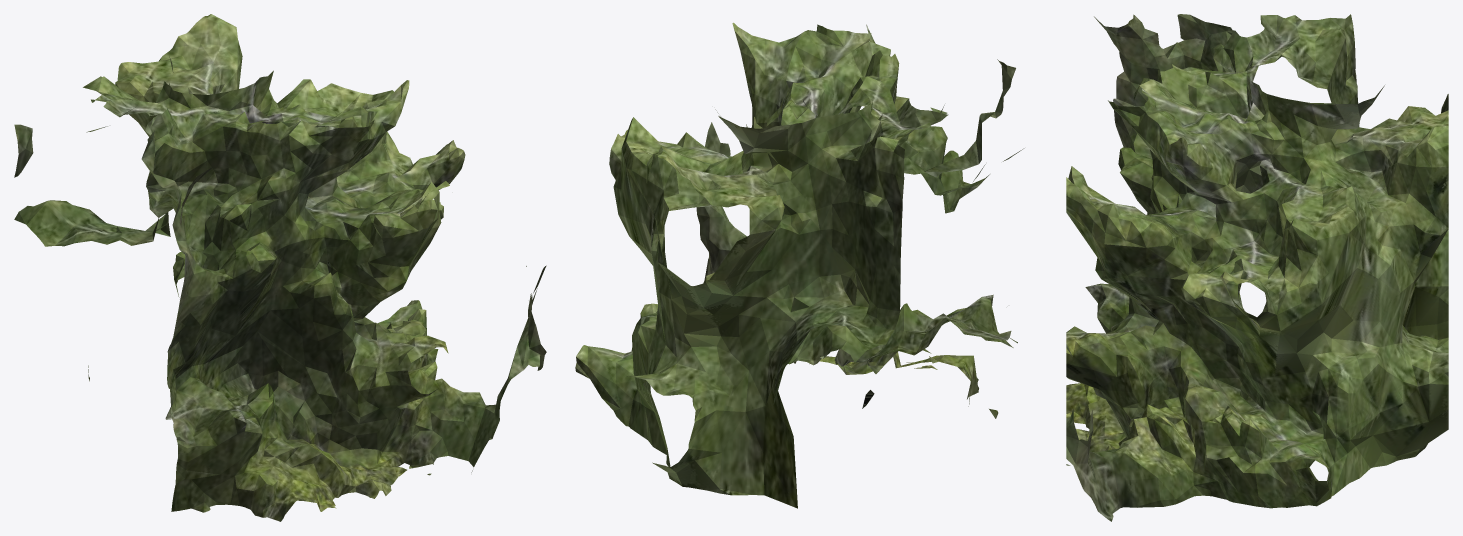
The picture shows the model from 3 angles, left to right: view 1: azimuth 30°, elevation 25°; view 2: azimuth 150°, elevation 25°; view 3: azimuth 270°, elevation 25°; orthographic projection. The views are drawn at different scales.
Bounding box in the file's own units: 5.9 × 5.9 × 5.9.
8 materials, 8 textured.
